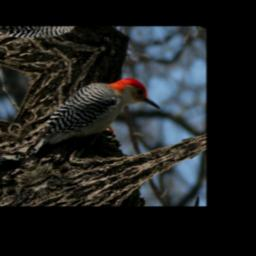Woodpecker: (11, 61, 165, 171)
